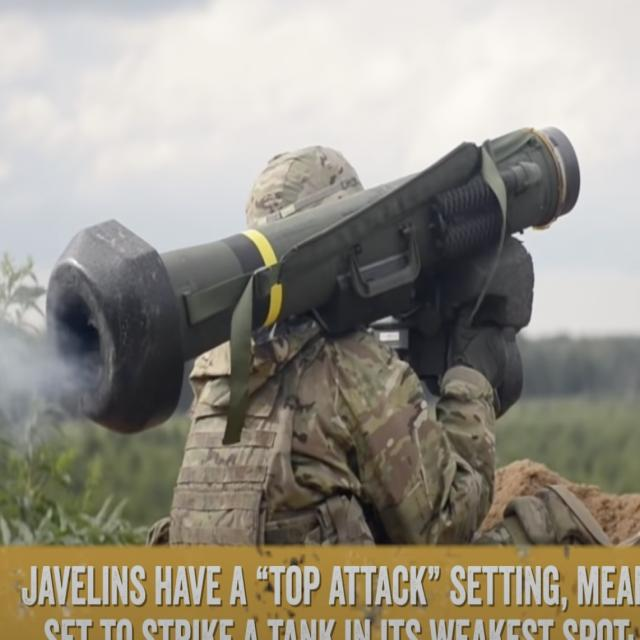bazooka: (30, 50, 625, 492)
